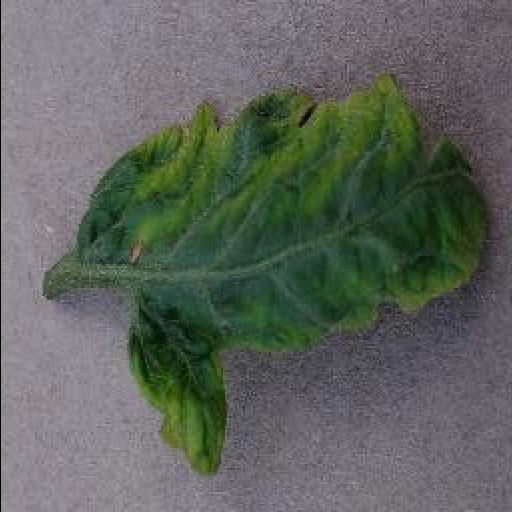disease_tomato: (78, 78, 490, 479)
